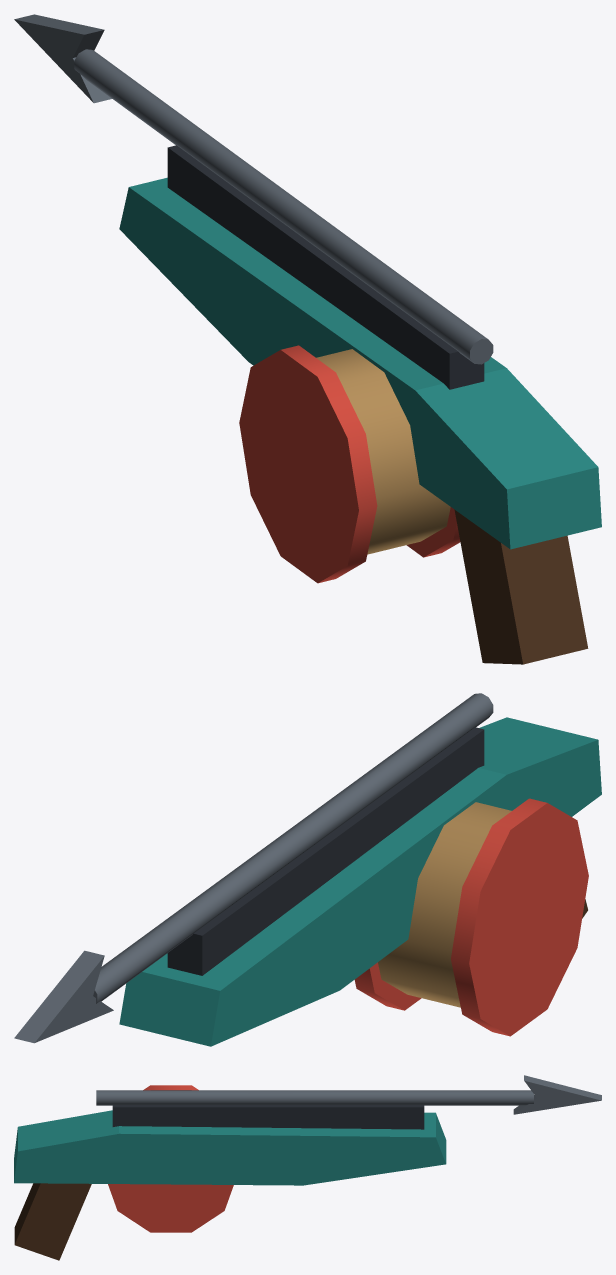
Rendered from harpoon.glb.
The picture shows the model from 3 angles, top to bottom: view 1: azimuth 30°, elevation 25°; view 2: azimuth 150°, elevation 25°; view 3: azimuth 270°, elevation 25°; orthographic projection. The views are drawn at different scales.
Parts seen in each view (by area): view 1: Merged; view 2: Merged; view 3: Merged.
Boxes of the visible parts, x1,y1,x2,y2 form: Merged: (14, 14, 601, 664); Merged: (14, 693, 601, 1046); Merged: (14, 1075, 601, 1260).
Size of the model in its own units: 0.1304 by 0.2442 by 0.7474.
